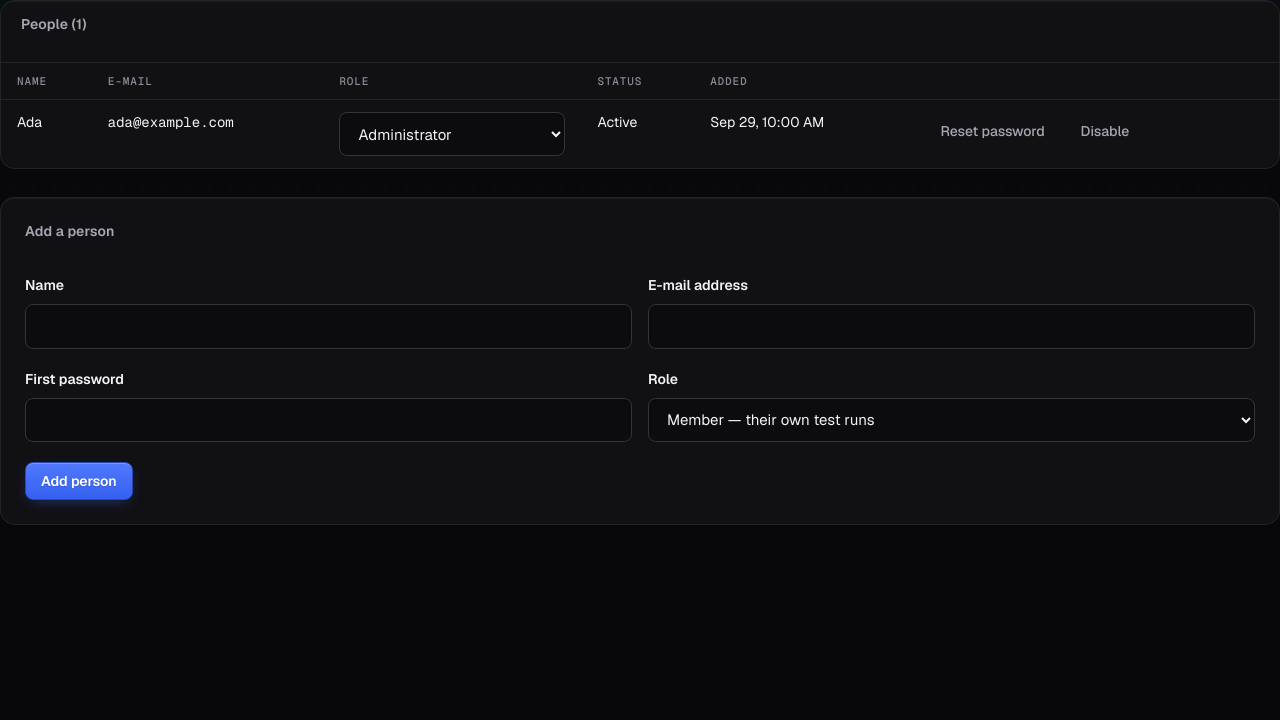
UserAdmin › shows the API's refusal to demote the last admin
The width and height of the screenshot is (1280, 720).
Select "Member" in the dropdown named "Role of Ada" at (452, 134), box [339, 112, 565, 156]
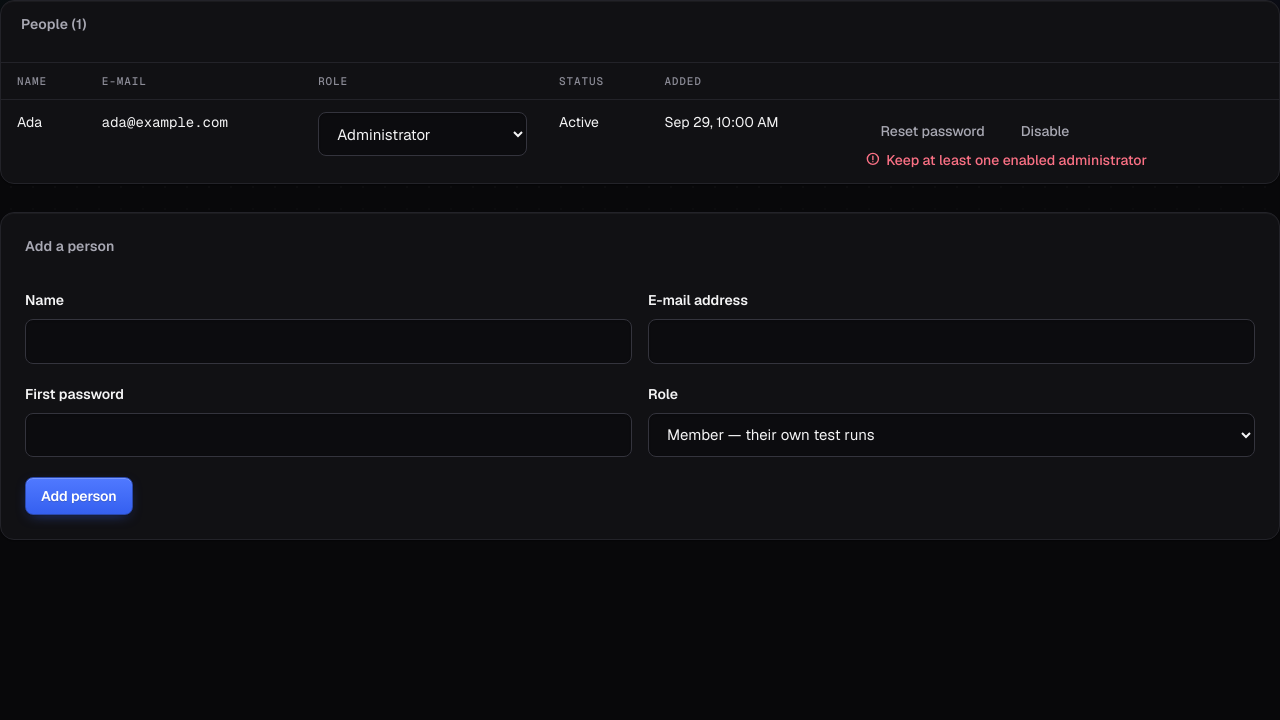
Result: the message reads "Keep at least one enabled administrator" at [886, 151, 1147, 169]
